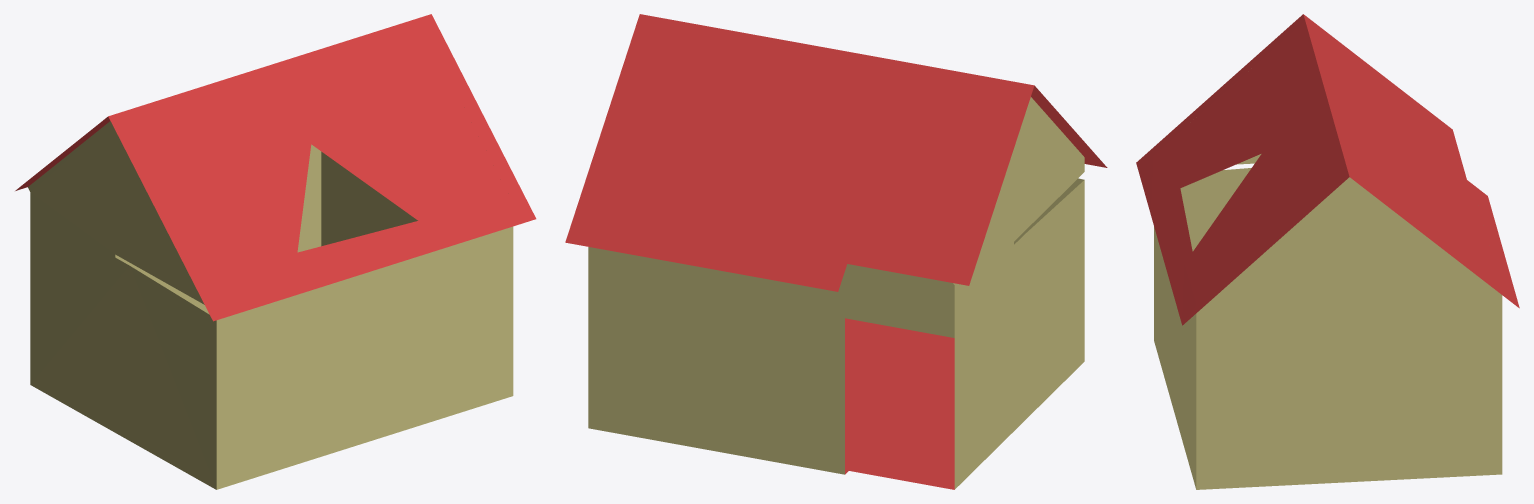
3 renders of one model, left to right at view 1: azimuth 30°, elevation 25°; view 2: azimuth 150°, elevation 25°; view 3: azimuth 270°, elevation 25°, orthographic. The views are drawn at different scales.
Bounding box in the file's own units: 13.26 × 12.01 × 10.77.
